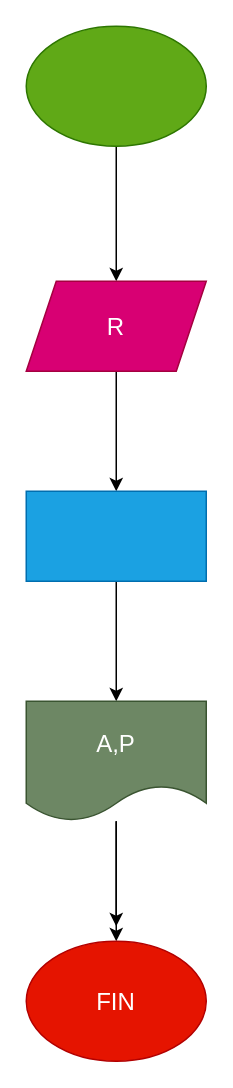
This 233x1088 diagram has some shape labels left out. Each missing label, with the centre of its shape:
A= PI*R 2 P=2 *PI*R: pixel 115 535
INICIO: pixel 115 85
